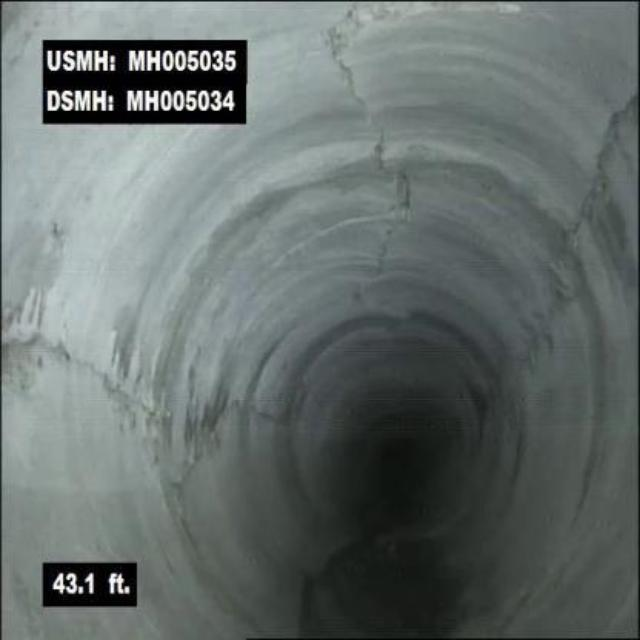Buckling: (320, 0, 420, 89)
Crack: (555, 92, 638, 280), (3, 328, 142, 418), (358, 94, 415, 209)
